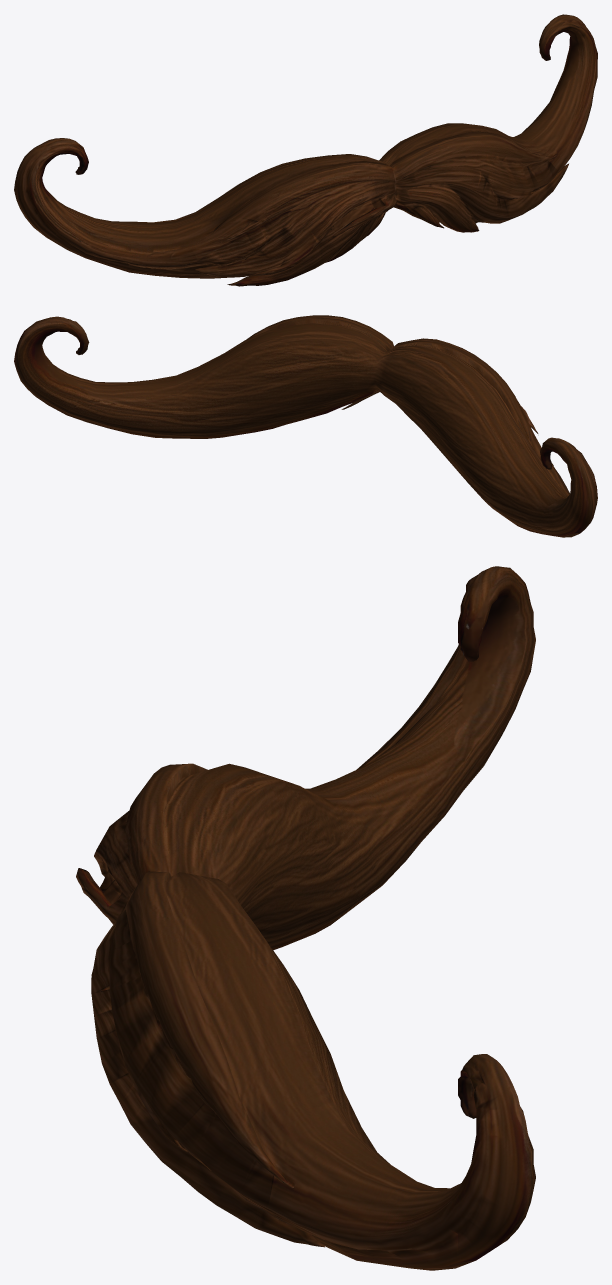
Rendered from Pornstach.fbx.
3 views of the same model, one above another, from view 1: azimuth 30°, elevation 25°; view 2: azimuth 150°, elevation 25°; view 3: azimuth 270°, elevation 25° (orthographic). The views are drawn at different scales.
Visible parts, largest first — view 1: tripo_node_8eb6d7fa; view 2: tripo_node_8eb6d7fa; view 3: tripo_node_8eb6d7fa.
Part boxes in pixels (x1,y1,x2,y2): tripo_node_8eb6d7fa: [14, 14, 597, 286]; tripo_node_8eb6d7fa: [14, 315, 597, 537]; tripo_node_8eb6d7fa: [76, 566, 535, 1270].
Size of the model in its own units: 0.998 by 0.2129 by 0.3457.
